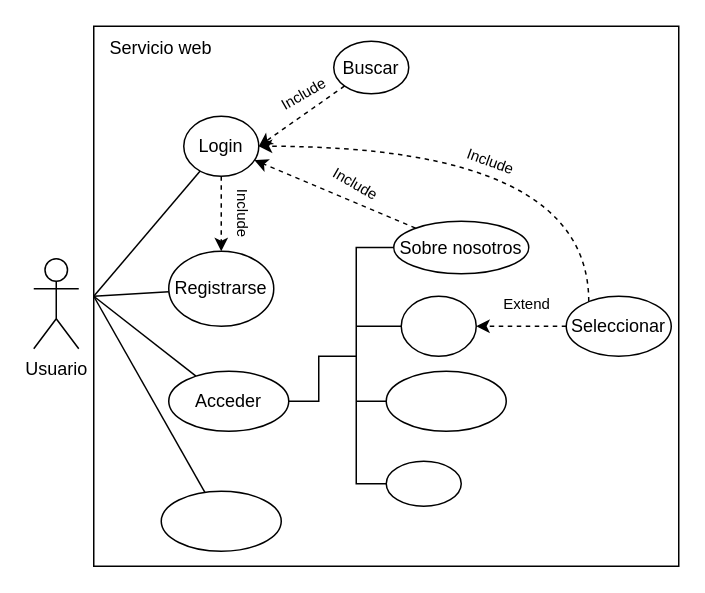
Some shapes in this 705 by 593 pixel diagram are drawn without their labels. Each missing label, with the box of its shape:
Estrategias: (385, 370, 506, 431)
Home: (385, 460, 461, 506)
Mapa: (400, 295, 476, 356)
Modo oscuro: (160, 490, 281, 551)
